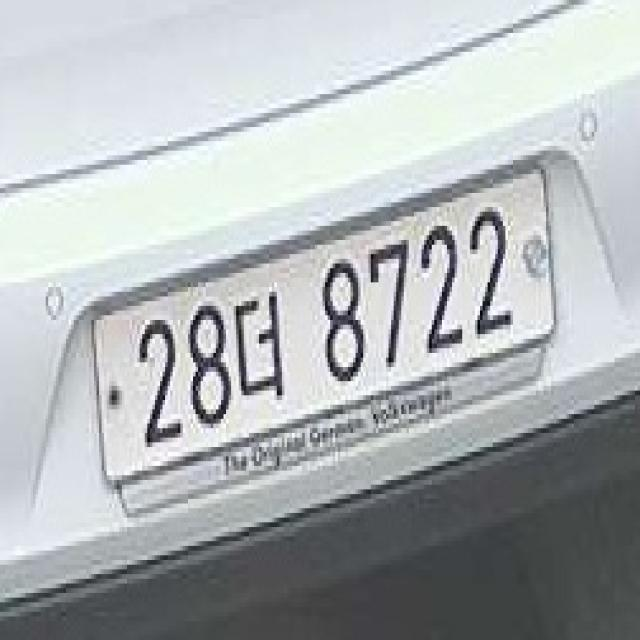plat: (88, 161, 562, 484)
